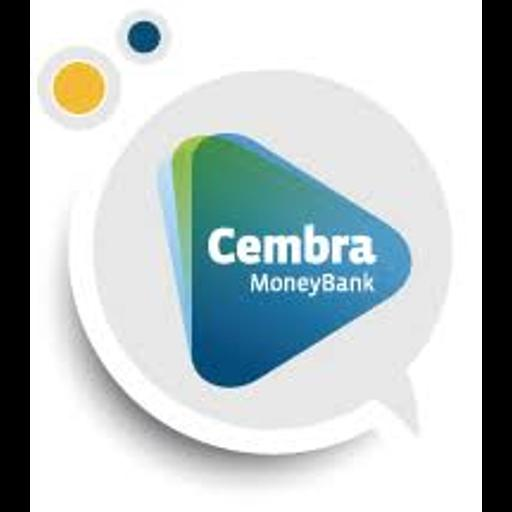Cembra Money Bank AG: (30, 0, 482, 512)
